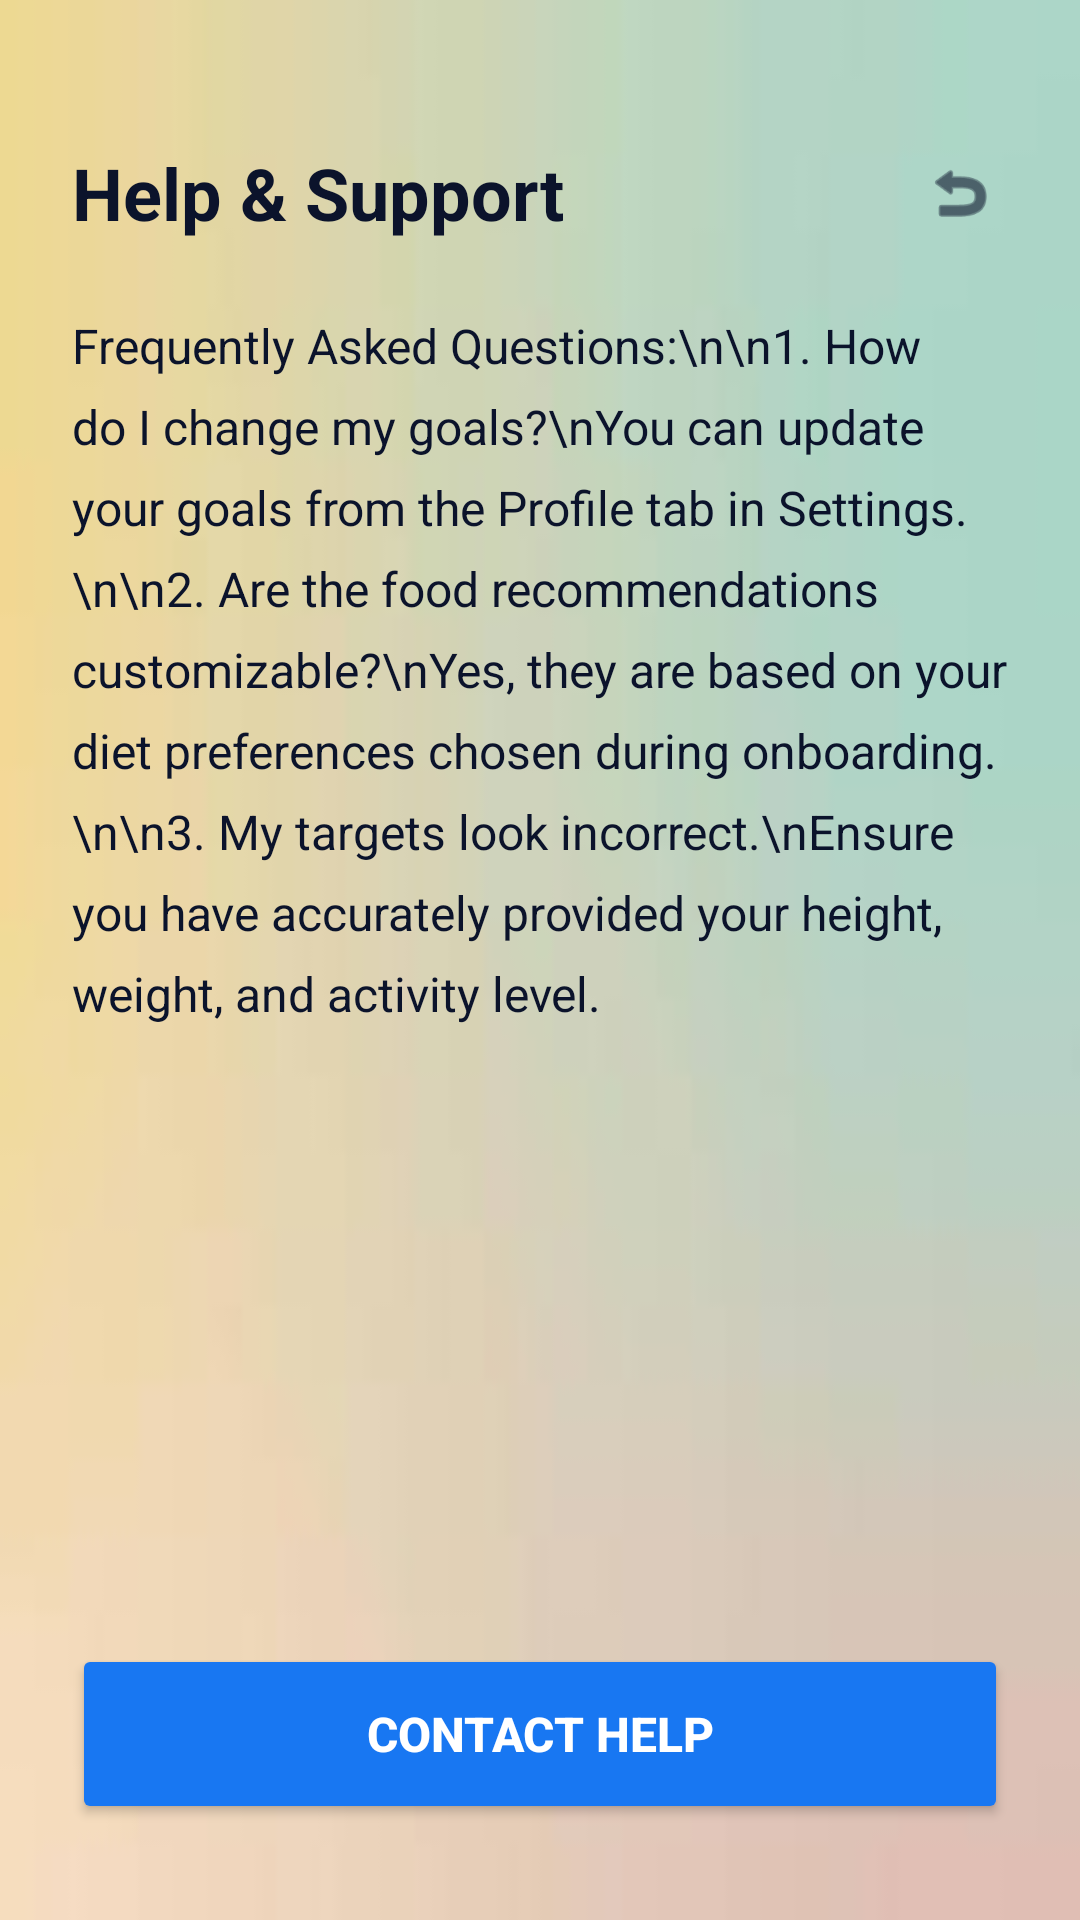

Icons on this 1080*1920 Android screen, each with the point to tap as [x,y]:
revert: [961,193]
